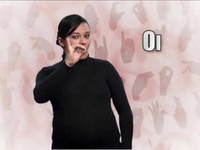oi: (63, 36, 86, 68)
